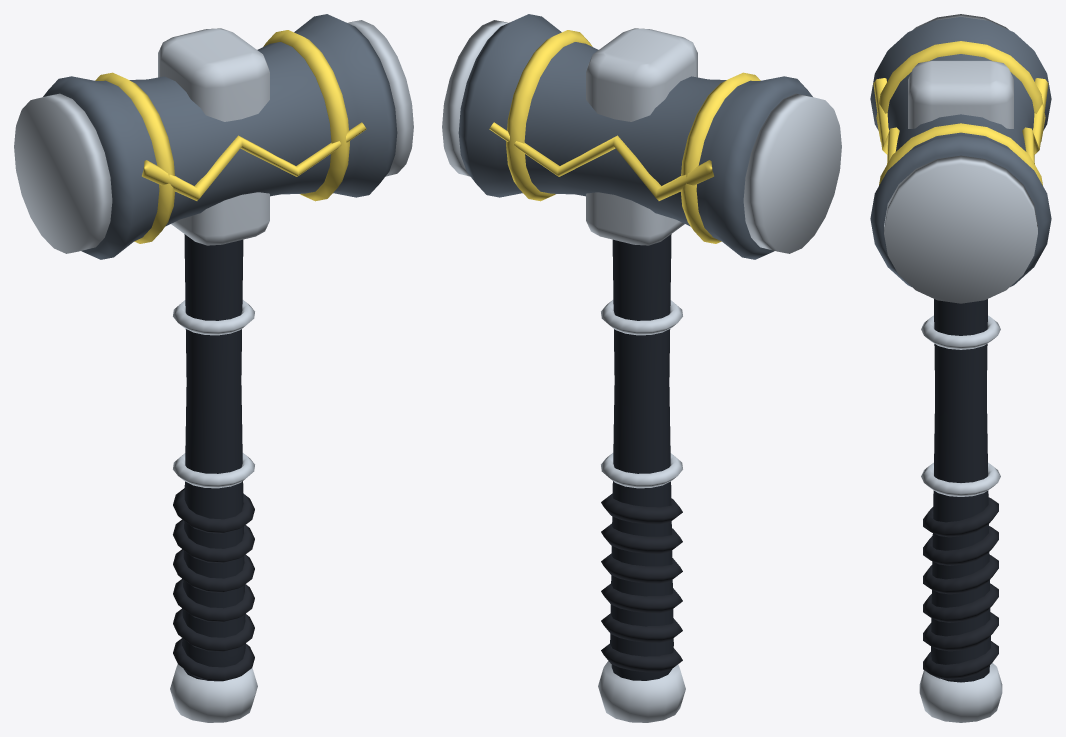
File: Tool_T12.fbx
3 views of the same model, side by side, from view 1: azimuth 30°, elevation 25°; view 2: azimuth 150°, elevation 25°; view 3: azimuth 270°, elevation 25° (orthographic). The views are drawn at different scales.
Visible parts, largest first — view 1: ToolT12Head, ToolT12Handle, ToolT12HeadGlow; view 2: ToolT12Head, ToolT12Handle, ToolT12HeadGlow; view 3: ToolT12Head, ToolT12Handle, ToolT12HeadGlow.
Part boxes in pixels (left/top/right/bottom): ToolT12Head: left=14, top=14, right=413, bottom=259; ToolT12Handle: left=170, top=234, right=257, bottom=722; ToolT12HeadGlow: left=95, top=30, right=366, bottom=243; ToolT12Head: left=442, top=14, right=841, bottom=259; ToolT12Handle: left=598, top=234, right=685, bottom=722; ToolT12HeadGlow: left=489, top=30, right=760, bottom=243; ToolT12Head: left=870, top=14, right=1051, bottom=303; ToolT12Handle: left=919, top=299, right=1002, bottom=722; ToolT12HeadGlow: left=873, top=41, right=1048, bottom=185.
Bounding box in the file's own units: 208 × 410 × 106.
